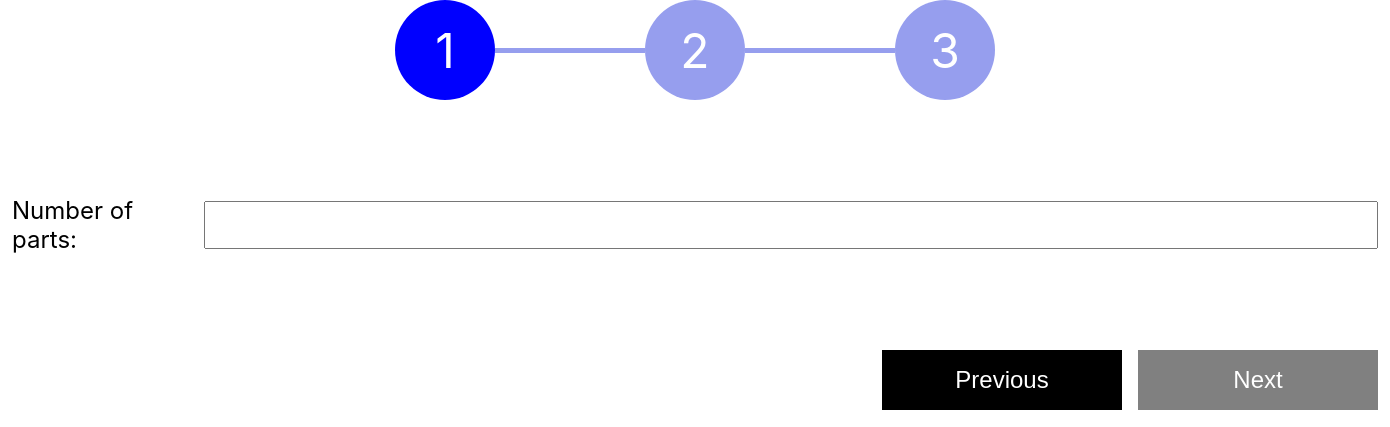
<Page1 /> unit test › should enable Next button when input is filled
This screenshot has width=1390, height=427.
Type "5" into the number field labelled "Number of parts:" at point(791, 225), box [204,201,1378,249]
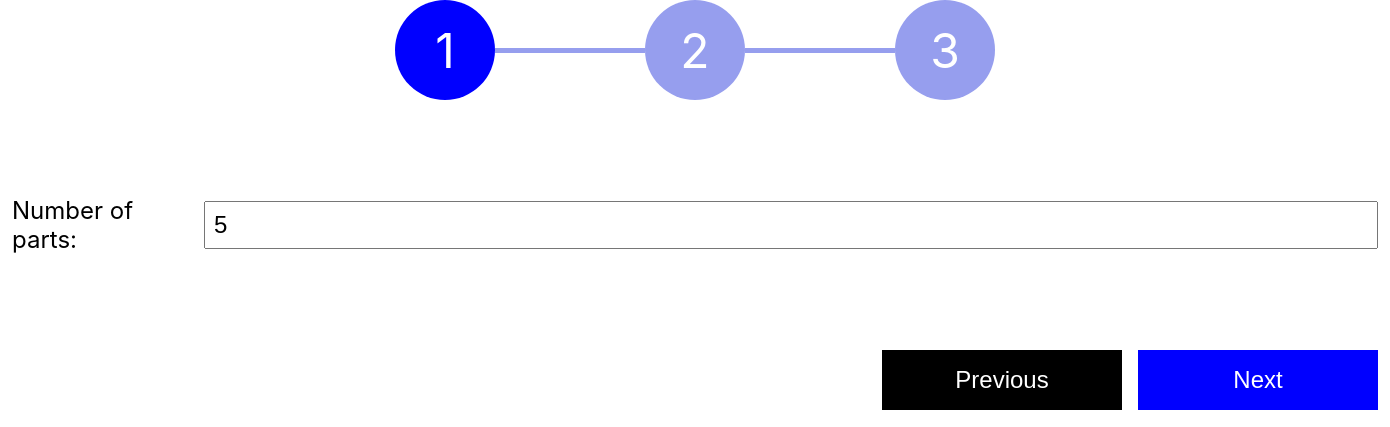
Expected: the button "Next" is enabled, [1138,350,1378,410]
